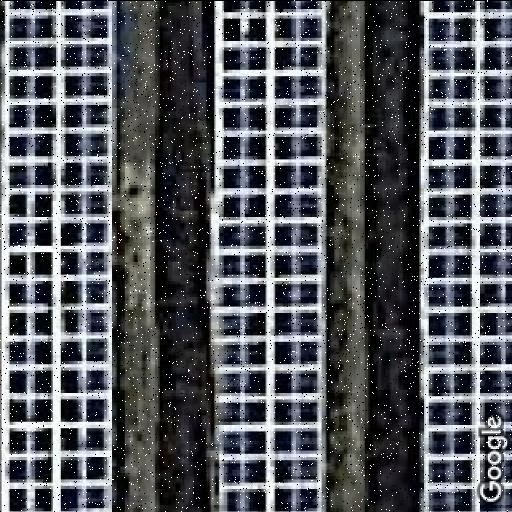solar-panel: (0, 0, 117, 512), (218, 0, 324, 512), (421, 0, 512, 512)
